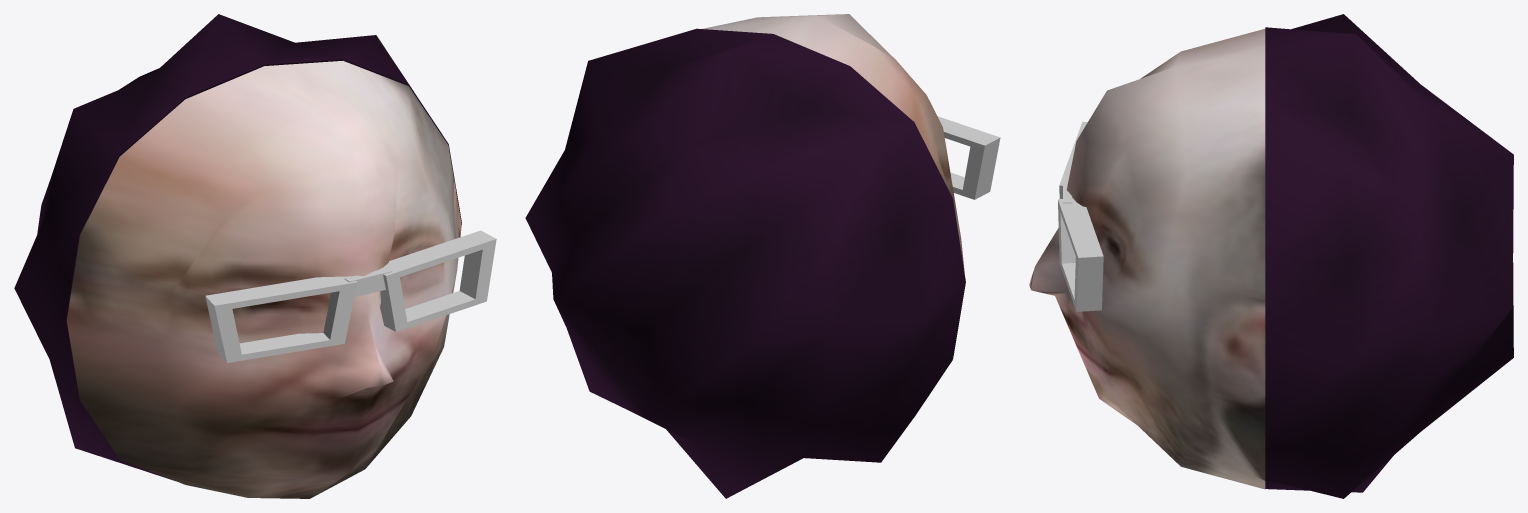
The model's file is EasterEgg.fbx.
3 views of the same model, side by side, from view 1: azimuth 30°, elevation 25°; view 2: azimuth 150°, elevation 25°; view 3: azimuth 270°, elevation 25° (orthographic). The views are drawn at different scales.
Visible parts, largest first — view 1: pasted__polySurface1, pCube7, pCube4, pCube5, pCube6; view 2: pCube7, pasted__polySurface1, pCube4; view 3: pCube7, pasted__polySurface1, pCube5.
Part boxes in pixels (bbox=[...]): pasted__polySurface1: bbox=[66, 61, 461, 498]; pCube7: bbox=[14, 14, 461, 480]; pCube4: bbox=[205, 276, 357, 362]; pCube5: bbox=[379, 230, 496, 331]; pCube6: bbox=[344, 268, 391, 297]; pCube7: bbox=[525, 28, 965, 498]; pasted__polySurface1: bbox=[702, 14, 964, 400]; pCube4: bbox=[937, 116, 1000, 199]; pCube7: bbox=[1265, 14, 1513, 498]; pasted__polySurface1: bbox=[1029, 29, 1265, 489]; pCube5: bbox=[1058, 198, 1103, 311].
Bounding box in the file's own units: 0.1209 × 0.1284 × 0.1231.
2 materials, 1 textured.
